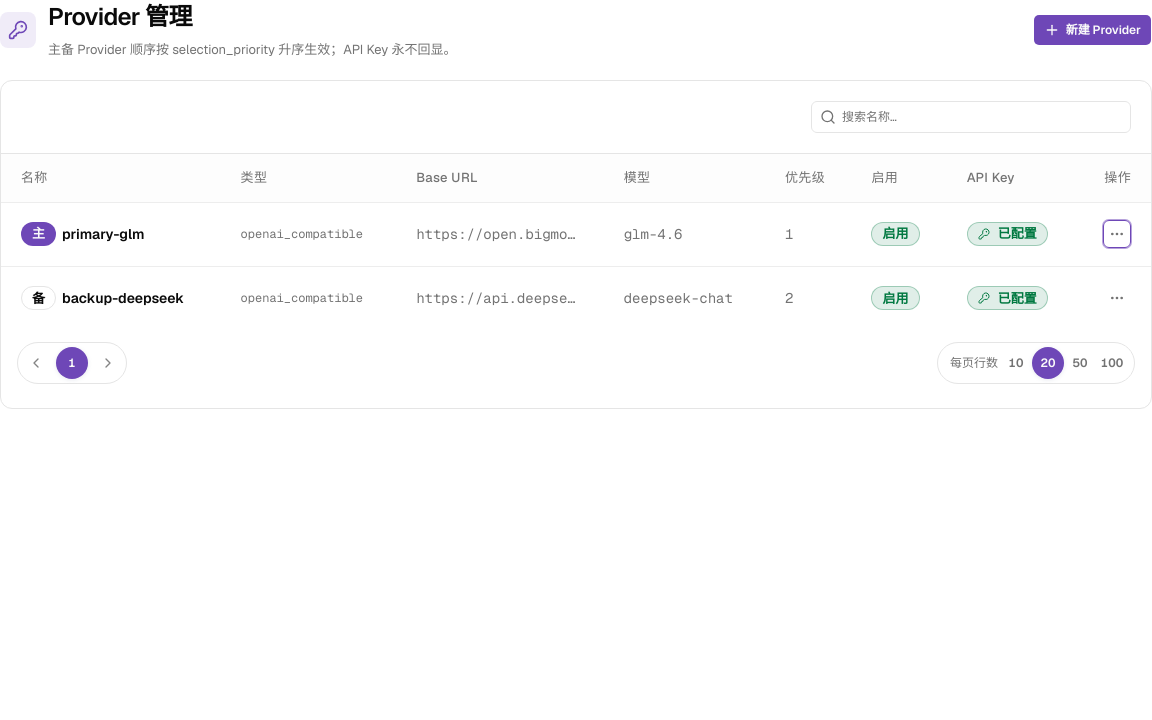
Scenario: gate: Secret永不回填 › offers no contract-hash inputs — both fingerprints are platform-derived
Press Enter
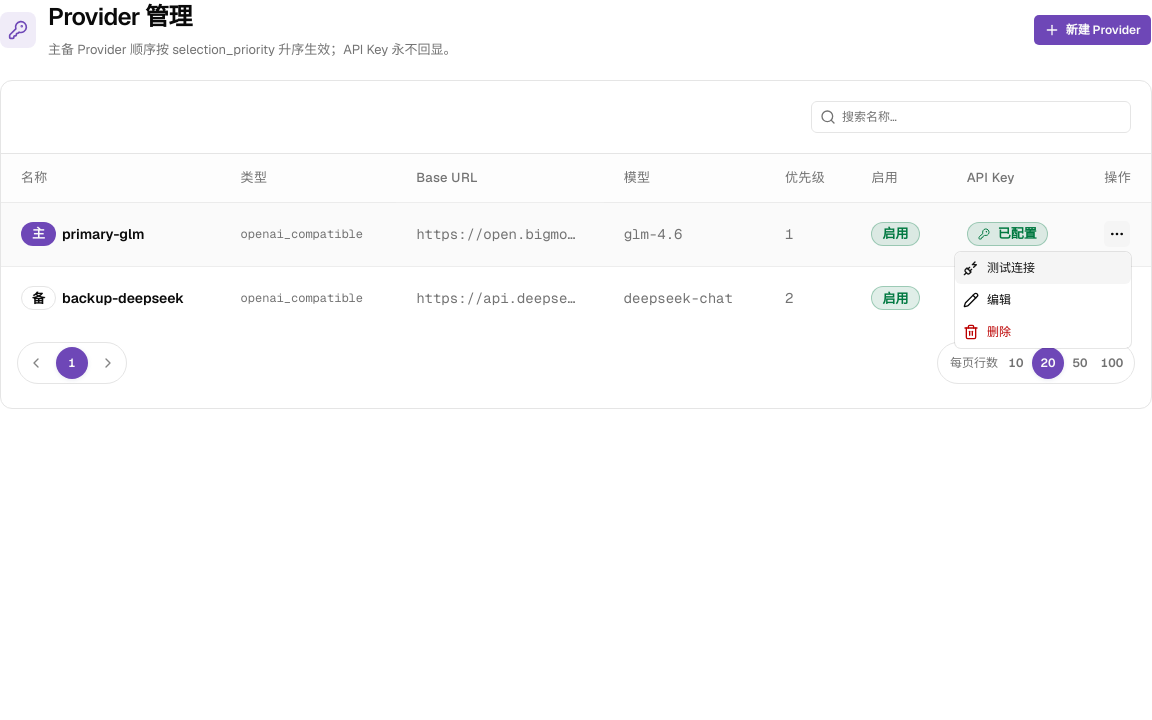
Click the menu item "编辑" at (987, 300), box left=963, top=292, right=1011, bottom=308
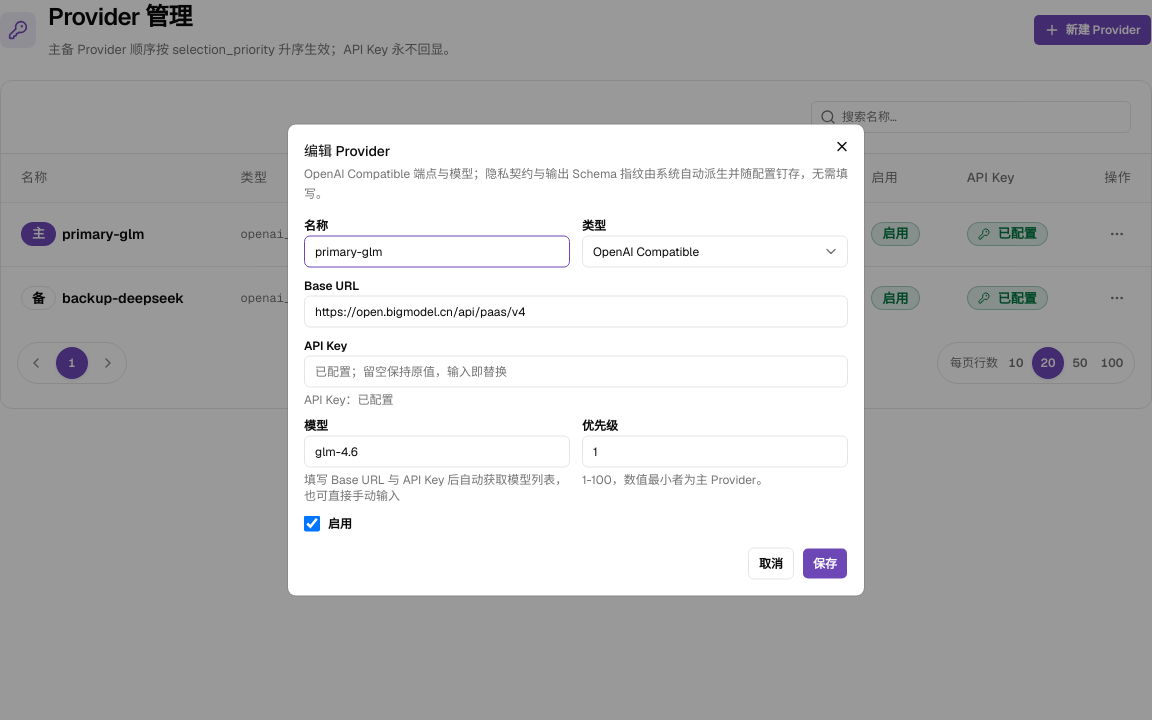
Check: the password field with test id "provider-api-key" is shown, box left=304, top=356, right=848, bottom=388
Check: the dropdown with test id "provider-kind" shows "OpenAI Compatible", box left=582, top=236, right=848, bottom=268
